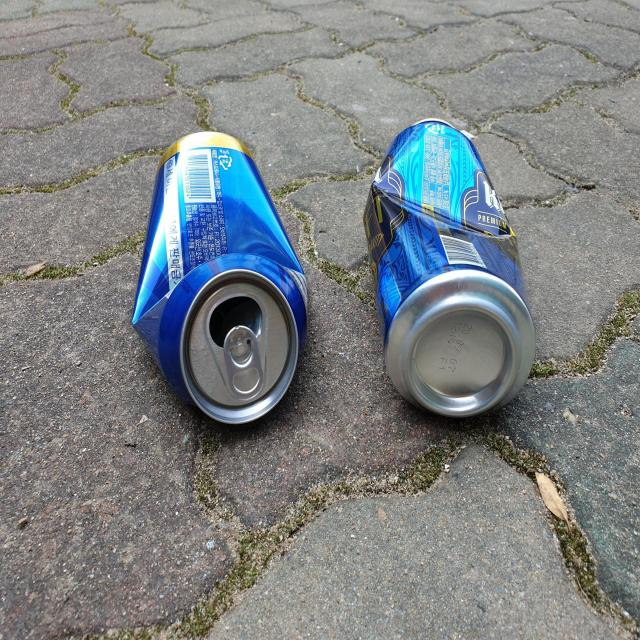can: (364, 117, 537, 417), (132, 131, 307, 424)
